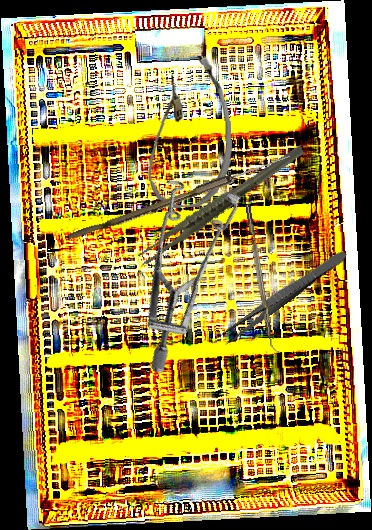Cannula: (142, 54, 235, 210)
Chopper: (245, 202, 281, 356)
Dressing Forceps: (217, 245, 350, 347)
Speculum: (65, 151, 294, 377)
Surgical Spoon: (67, 150, 292, 245)
Tissue Forceps: (123, 142, 320, 268)
